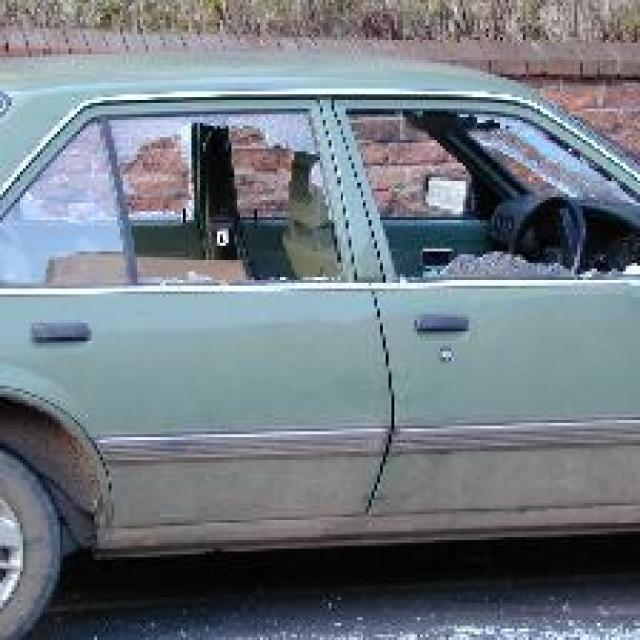damaged: (97, 112, 637, 288)
